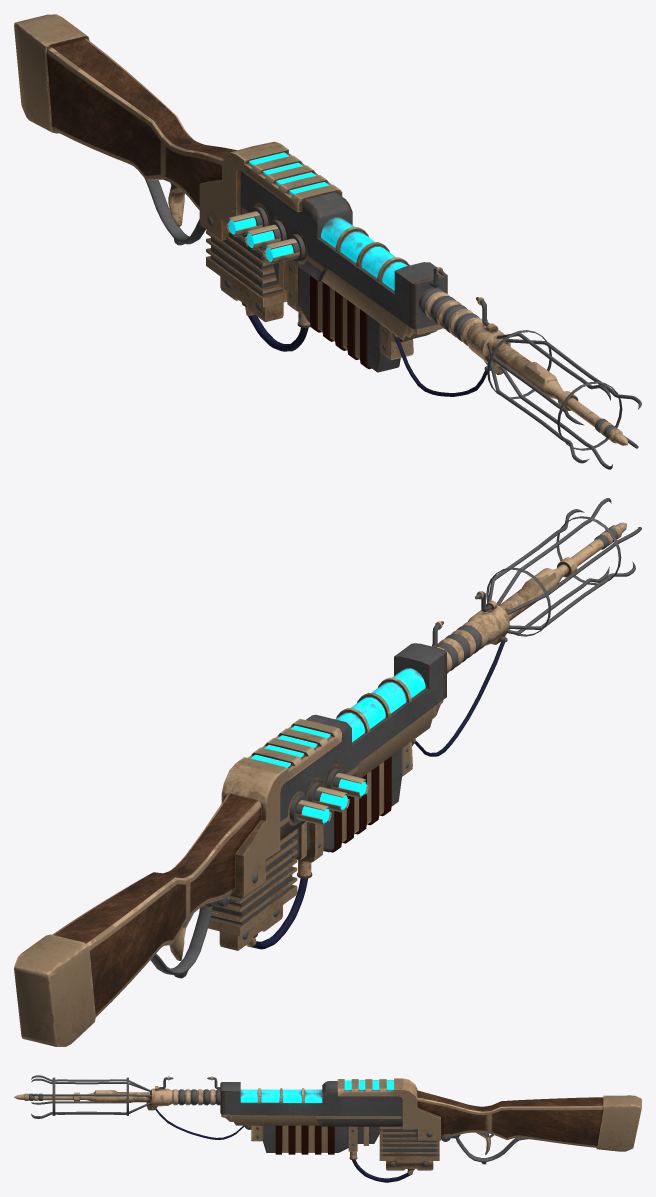
File: wunderwaffe.glb
3 views of the same model, one above another, from view 1: azimuth 30°, elevation 25°; view 2: azimuth 150°, elevation 25°; view 3: azimuth 270°, elevation 25° (orthographic). The views are drawn at different scales.
Parts seen in each view (by area): view 1: wunderwaffe; view 2: wunderwaffe; view 3: wunderwaffe.
Part boxes in pixels (box(x1,y1,x2,y2)): wunderwaffe: box(14, 14, 641, 469); wunderwaffe: box(14, 498, 641, 1046); wunderwaffe: box(14, 1075, 641, 1182).
Size of the model in its own units: 0.0732 by 0.1725 by 0.92.
1 material, 1 textured.
